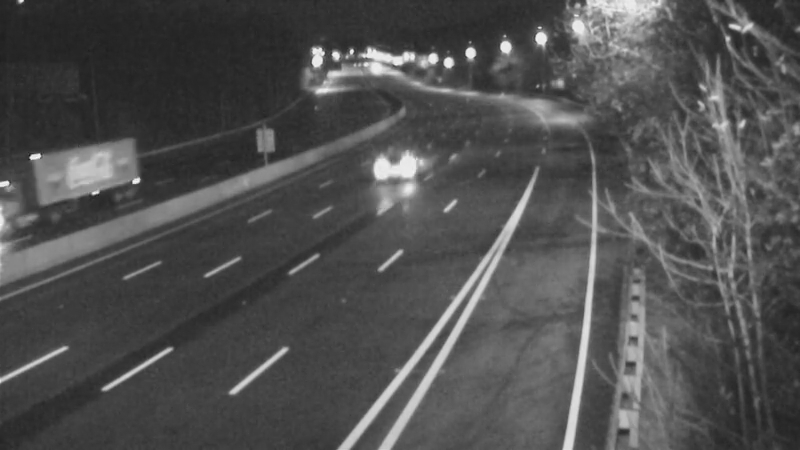vehicle: (352, 128, 432, 208), (12, 158, 92, 238)
